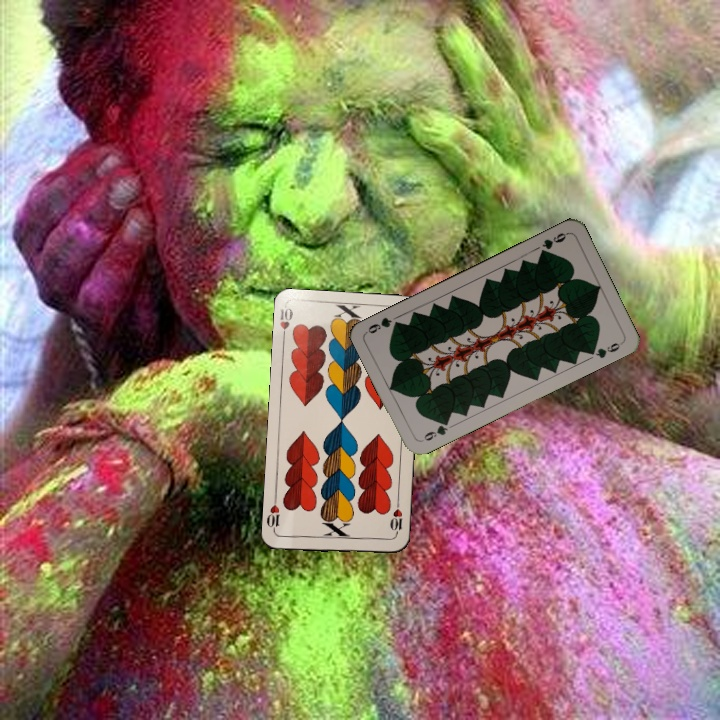G9: (536, 229, 571, 258), (420, 416, 452, 443)
H10: (276, 303, 296, 344), (386, 498, 405, 539)
